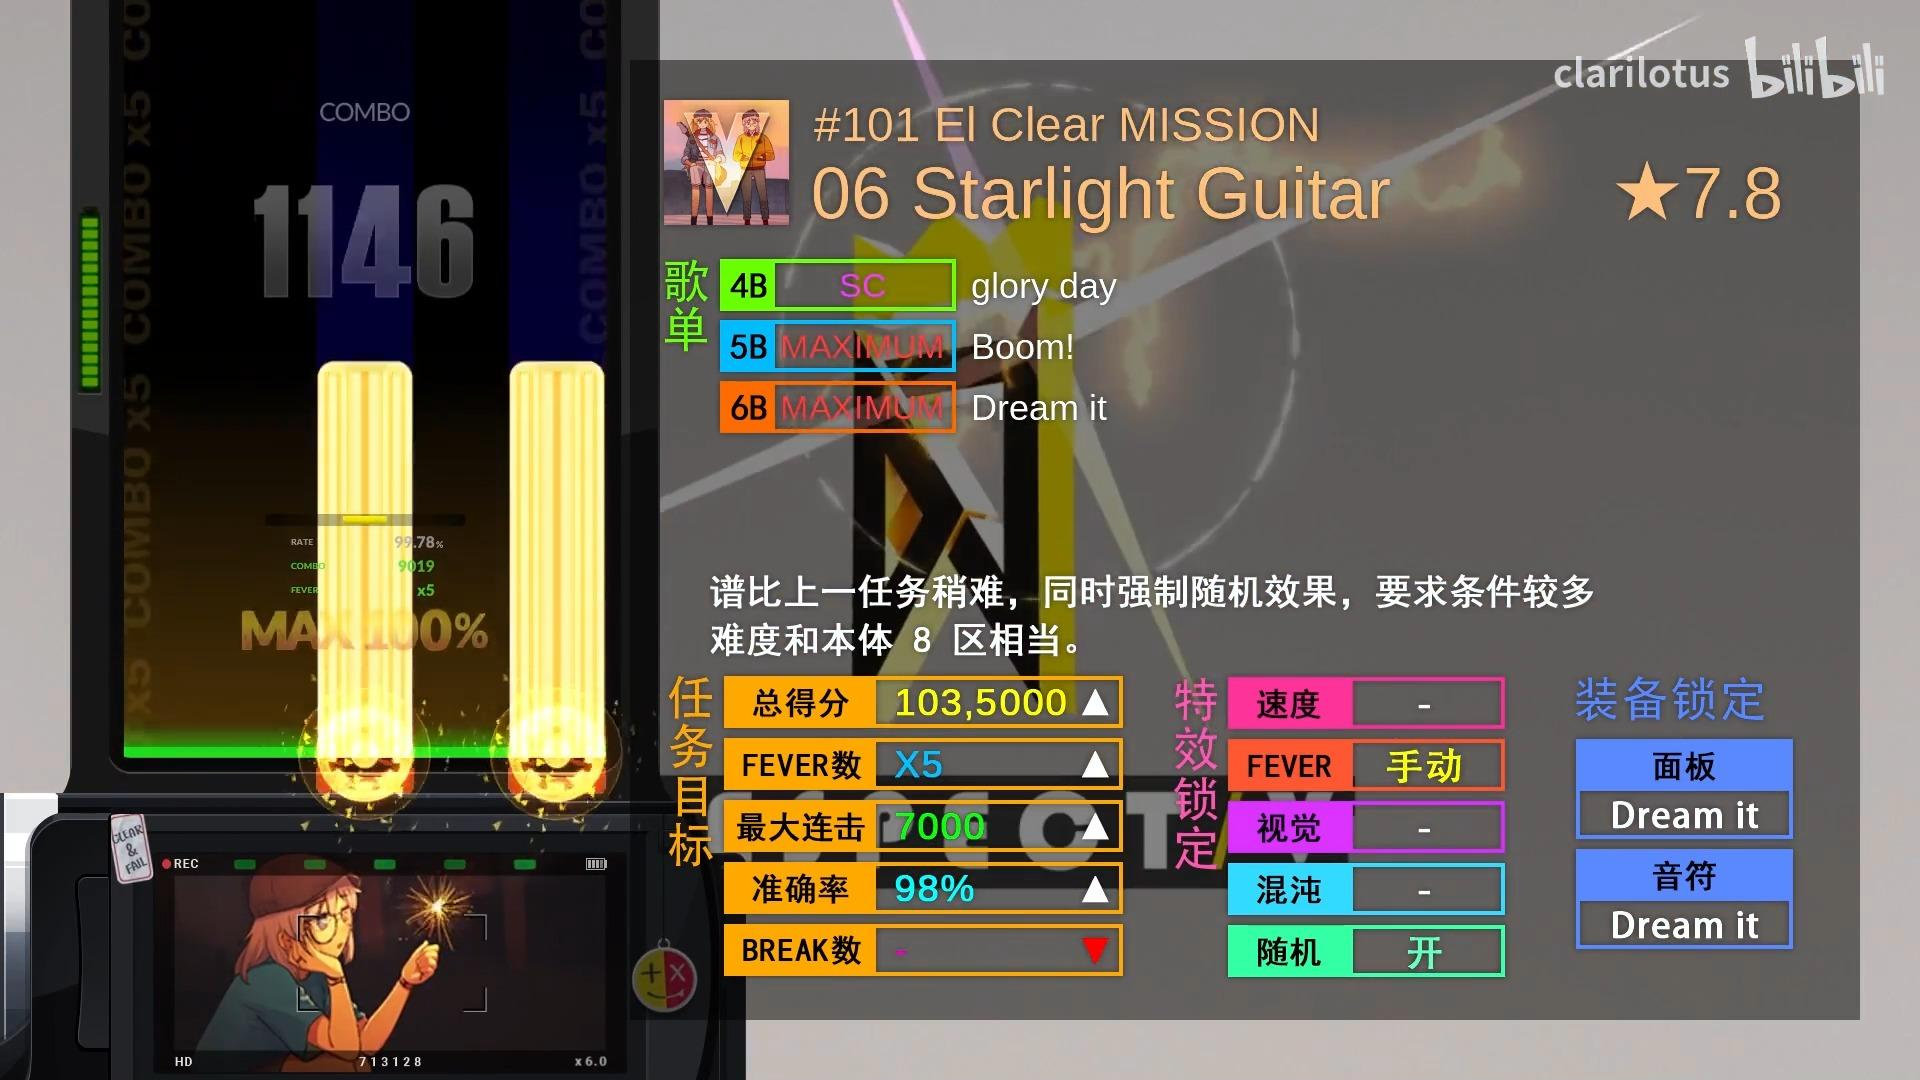hold-end: (510, 361, 604, 404), (316, 359, 411, 400)
